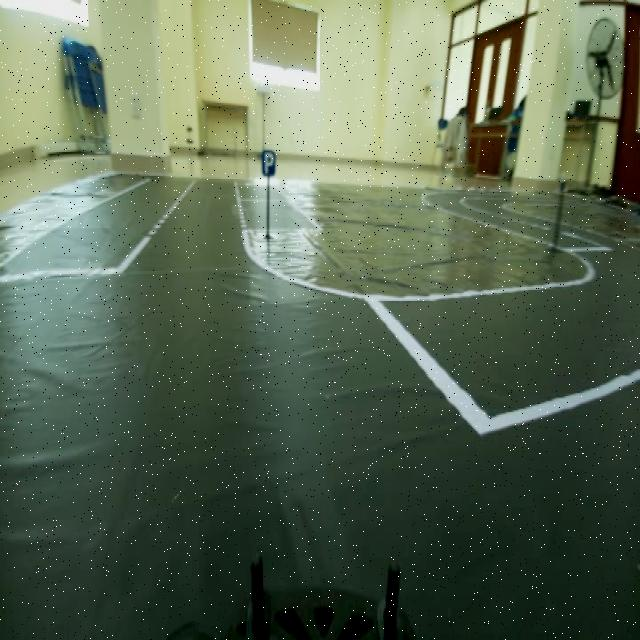parking: (256, 137, 280, 188)
